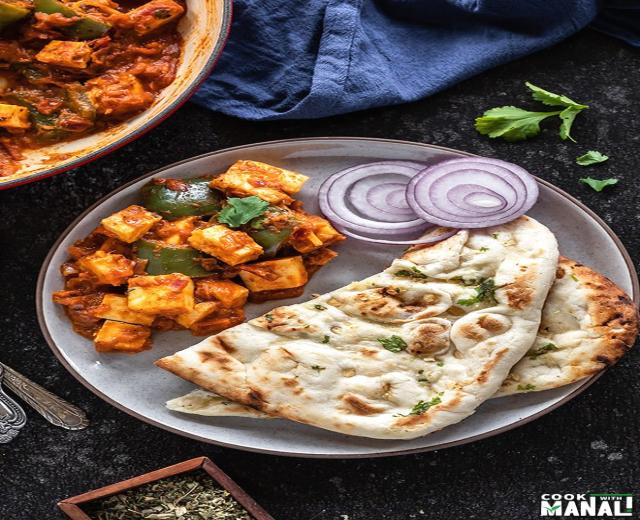chapati: (326, 207, 600, 456)
kadai paneer: (68, 132, 600, 446)
